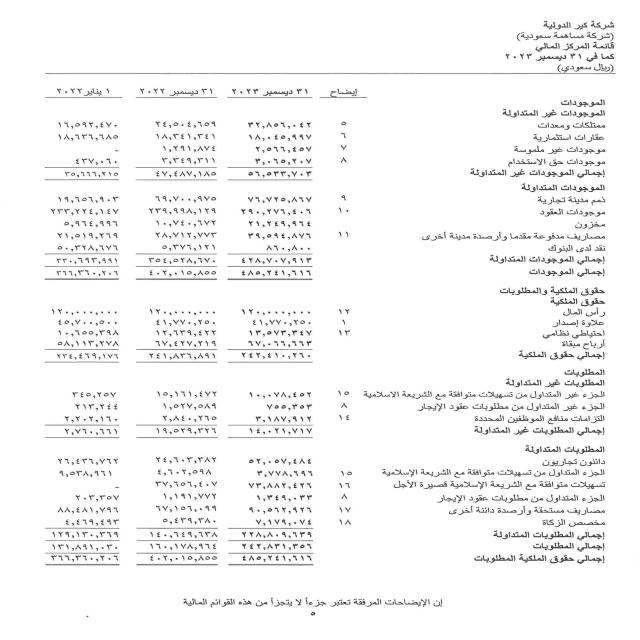financial_sheets: (533, 41, 621, 51)
table: (27, 76, 380, 576)
